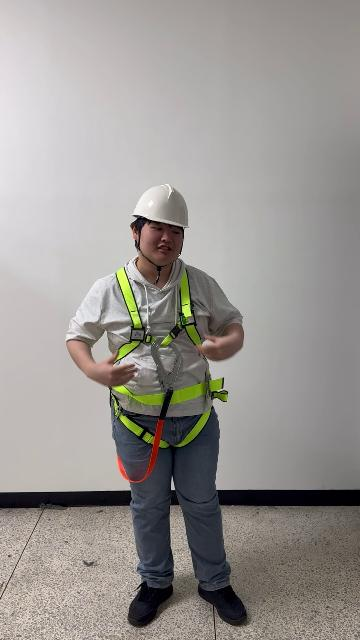helmet_worn: (131, 183, 191, 229)
shoe_not_worn: (197, 583, 247, 625), (127, 582, 173, 626)
vest_worn: (104, 266, 227, 451)
